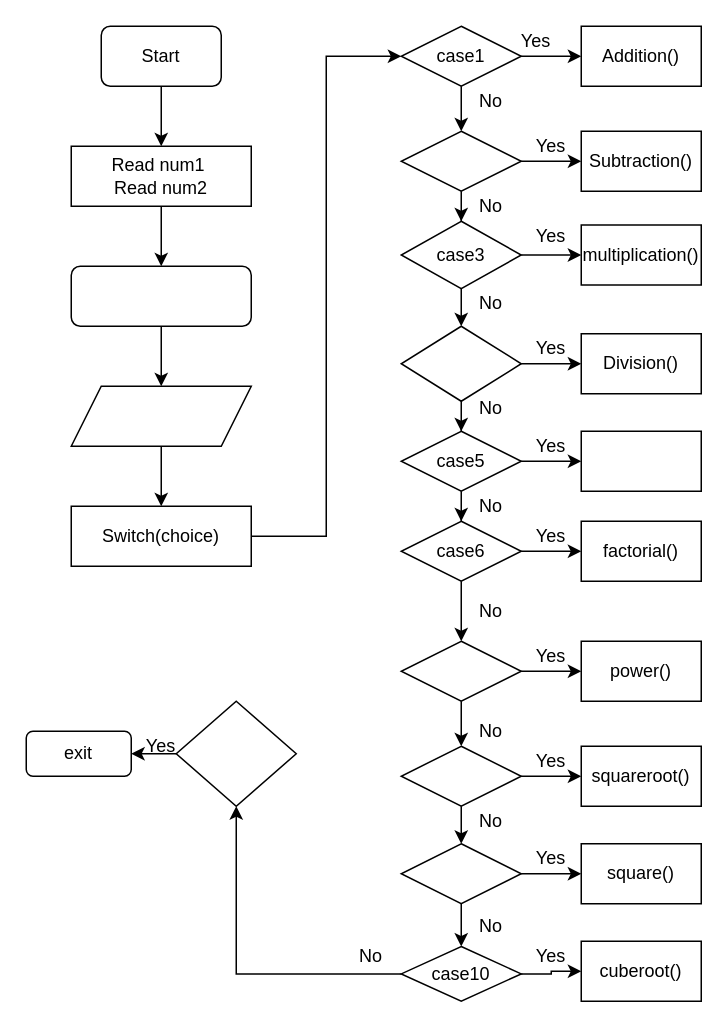
The diagram is 728 pixels wide and 1028 high, and some of its shapes have lost their labels. Here are the shapes that lost their labels. From the top down, the centre of each, then its label:
point (460, 160): case2
point (160, 295): Display calculator options
point (460, 363): case4
point (160, 415): Read choice
point (640, 460): modulus()
point (460, 670): case7
point (235, 753): default
point (460, 775): case8
point (460, 873): case9
